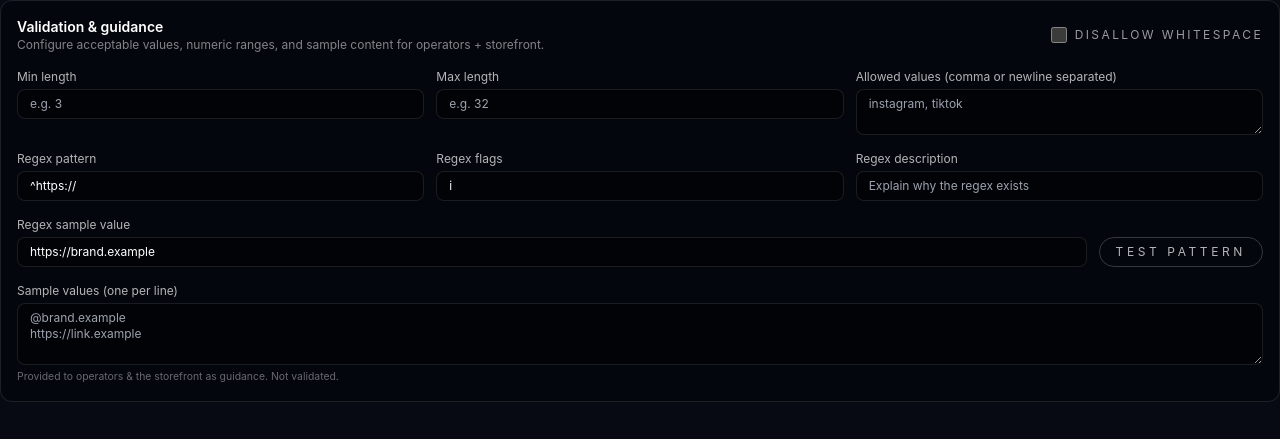
Test: FieldValidationPanel › runs regex tester and surfaces result
The width and height of the screenshot is (1280, 439).
Step 1. Click the button "Test pattern" → (1181, 252), box [1099,237,1263,267]
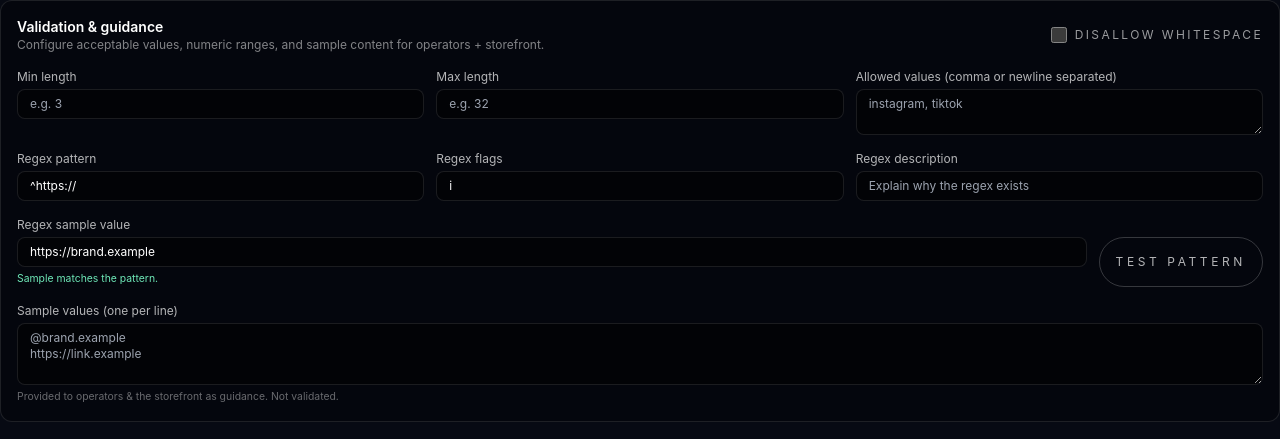
Expected: the text "Sample matches the pattern." is shown, [17,272,158,285]
